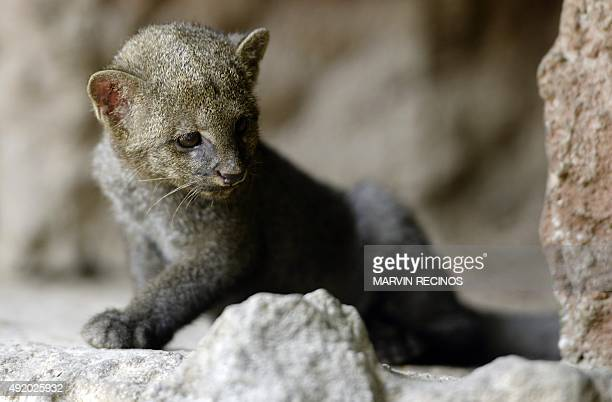Jaguarundi: (70, 16, 355, 347)
